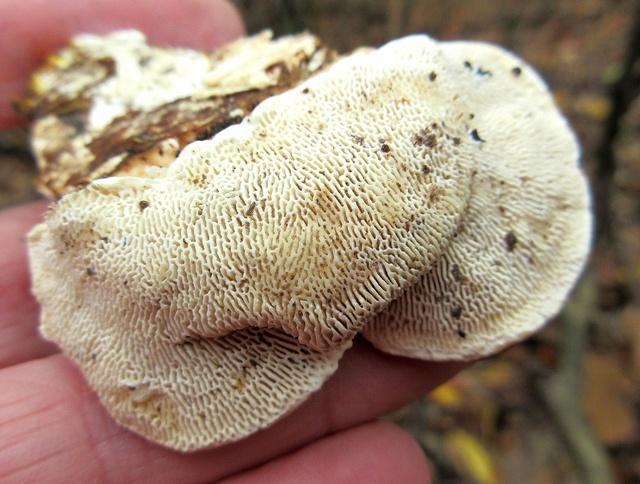Non-edible Mushroom: (19, 27, 594, 452)
